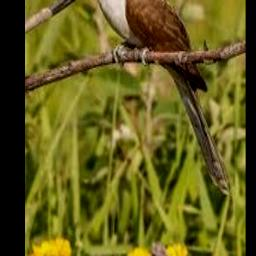Cuckoo: (59, 0, 231, 193)
